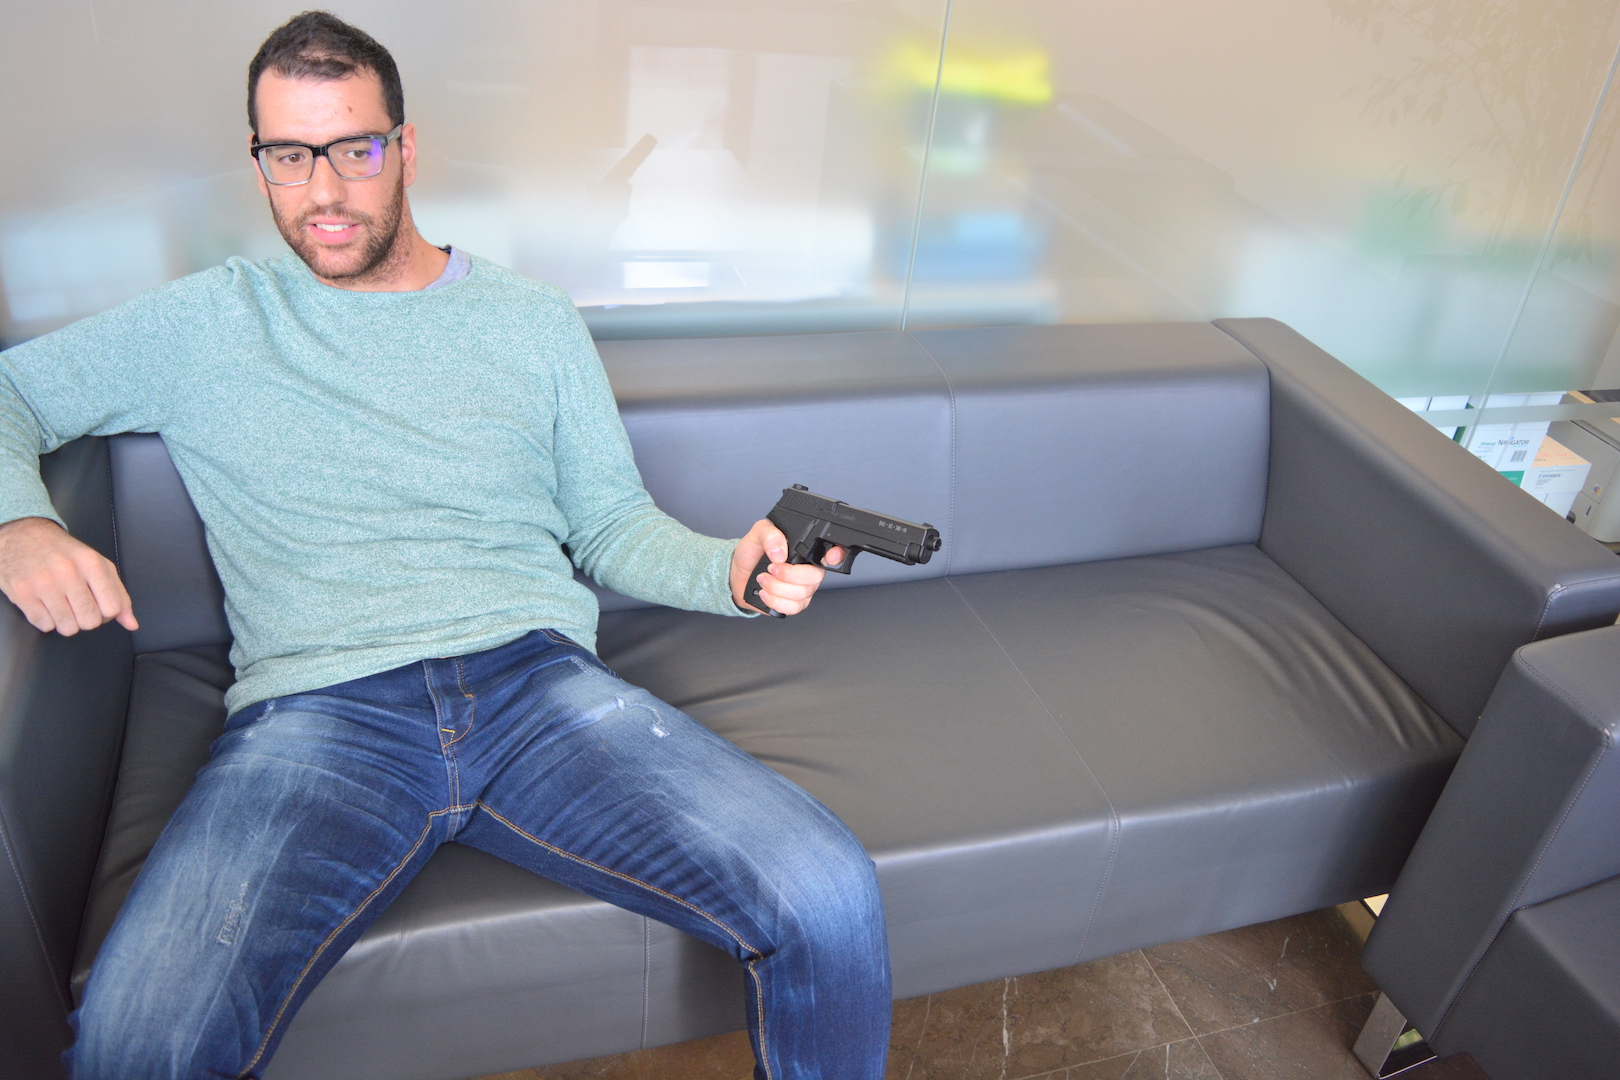pistol: (742, 483, 943, 618)
